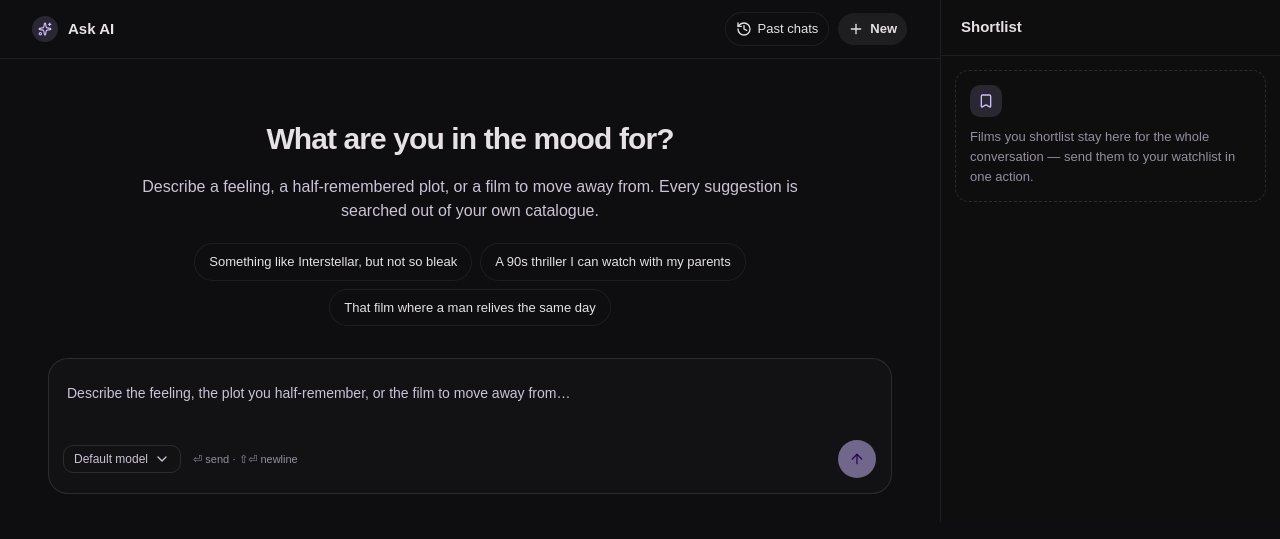
it: AskPageContent › lets the user switch models mid-conversation
Click the dropdown named "Chat model": point(122, 459) [63,445,181,473]
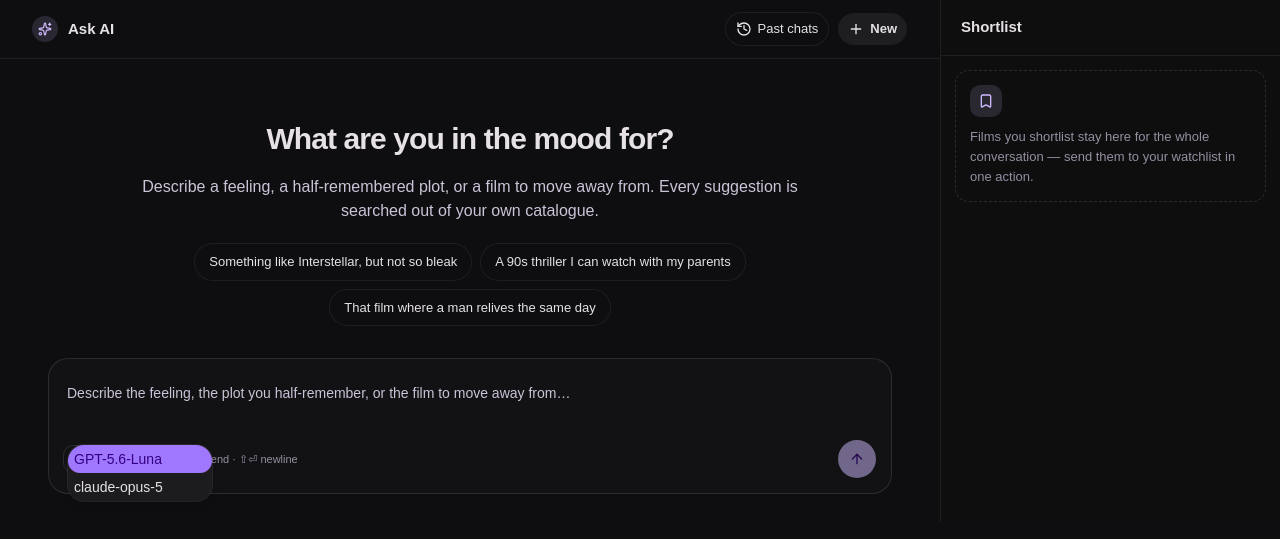
Click the option "claude-opus-5": point(118, 487) [74,479,163,495]
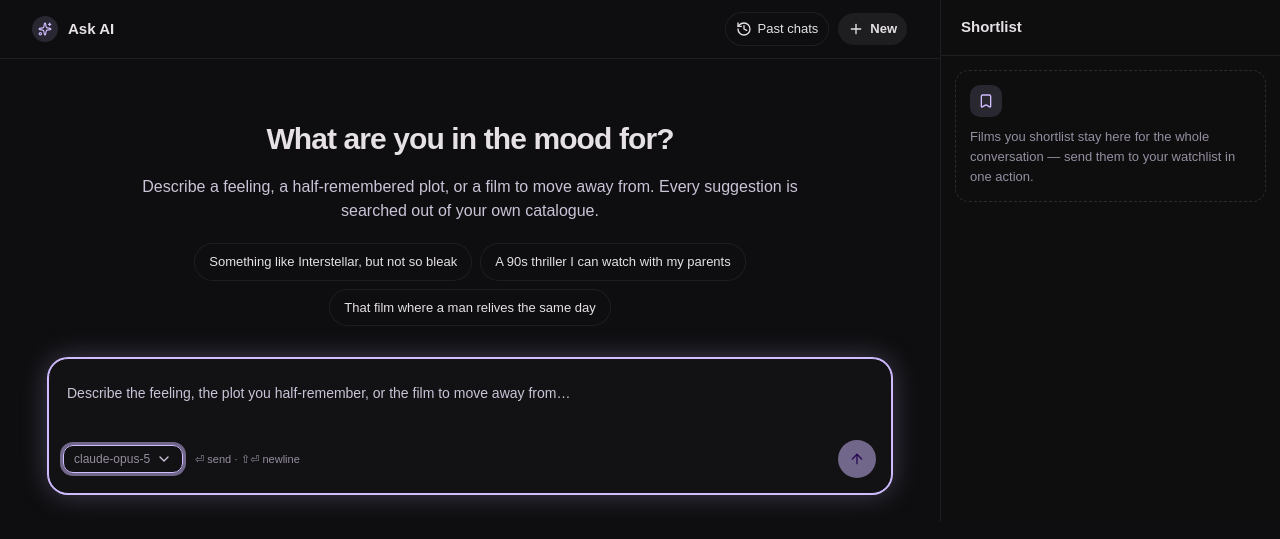
Result: the dropdown named "Chat model" shows "claude-opus-5" at [63,445,183,473]
